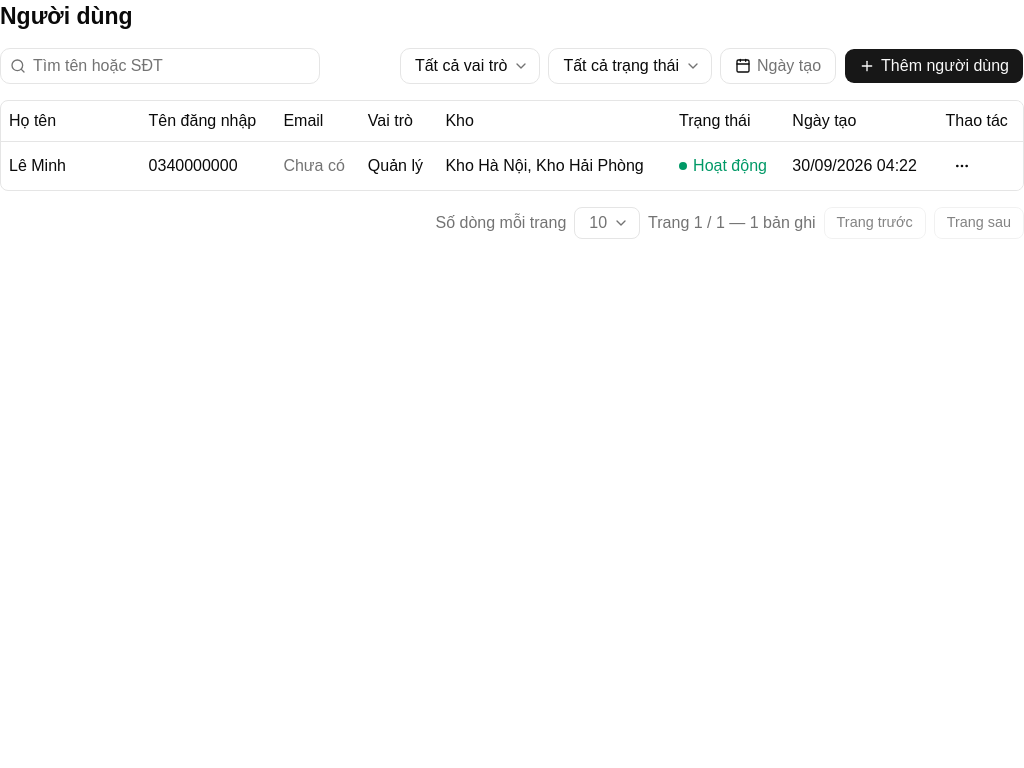
Test case: UsersPage — sheet chi tiết người dùng › bấm vào dòng → sheet hiện tên, trạng thái, vai trò và đủ các trường (trống hiện "Chưa có")
The image size is (1024, 768).
Bấm vào ô không tương tác (đăng nhập) — cả dòng là vùng bấm.
Step 1. Click the text "0340000000" → (208,165), box [141,141,275,190]
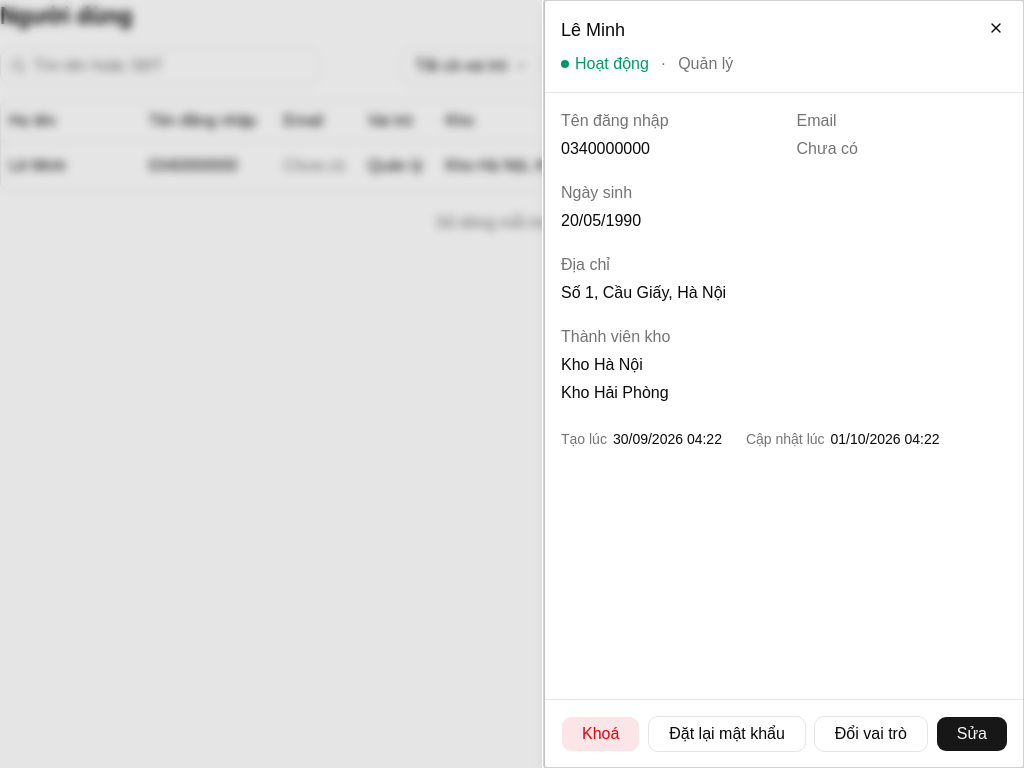
Expected: the text "Hoạt động" is shown, [561,52,649,76]
Now the text "Quản lý" is shown, box [678,52,733,76]
Now the list items read "Kho Hà Nội", "Kho Hải Phòng", in this order, box [561,356,643,373]; [561,384,669,401]
